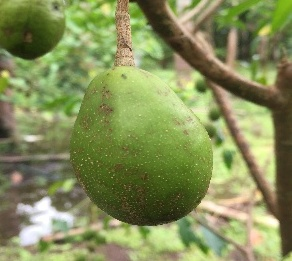Coc: (64, 64, 221, 229)
